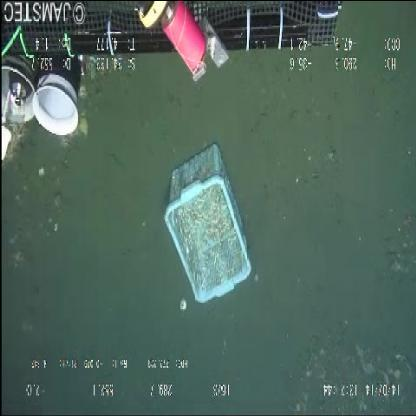Rov: (1, 1, 355, 165)
Rác: (148, 127, 260, 312)
